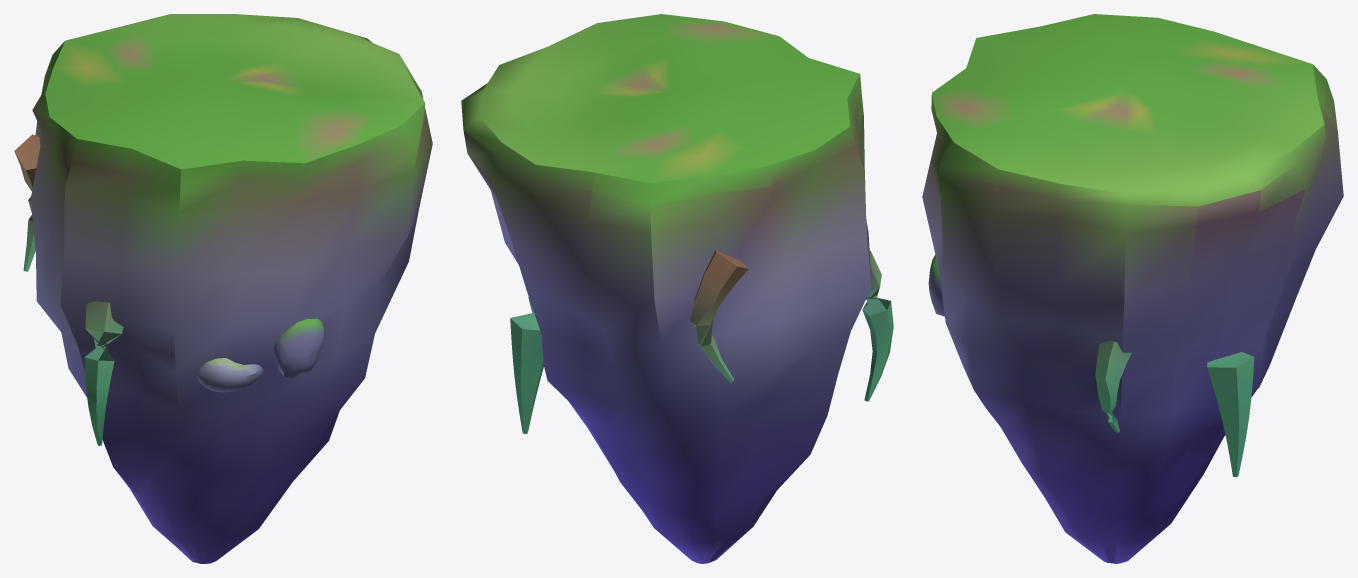
The model's file is verdant_island_04.glb.
The picture shows the model from 3 angles, left to right: view 1: azimuth 30°, elevation 25°; view 2: azimuth 150°, elevation 25°; view 3: azimuth 270°, elevation 25°; orthographic projection. The views are drawn at different scales.
Visible parts, largest first — view 1: verdant_island_04, Floater_0; view 2: verdant_island_04; view 3: verdant_island_04.
Part boxes in pixels (x1,y1,x2,y2): verdant_island_04: [14, 14, 432, 563]; Floater_0: [196, 358, 263, 392]; verdant_island_04: [461, 14, 893, 563]; verdant_island_04: [922, 14, 1343, 563].
Size of the model in its own units: 4.19 by 5.11 by 4.03.
